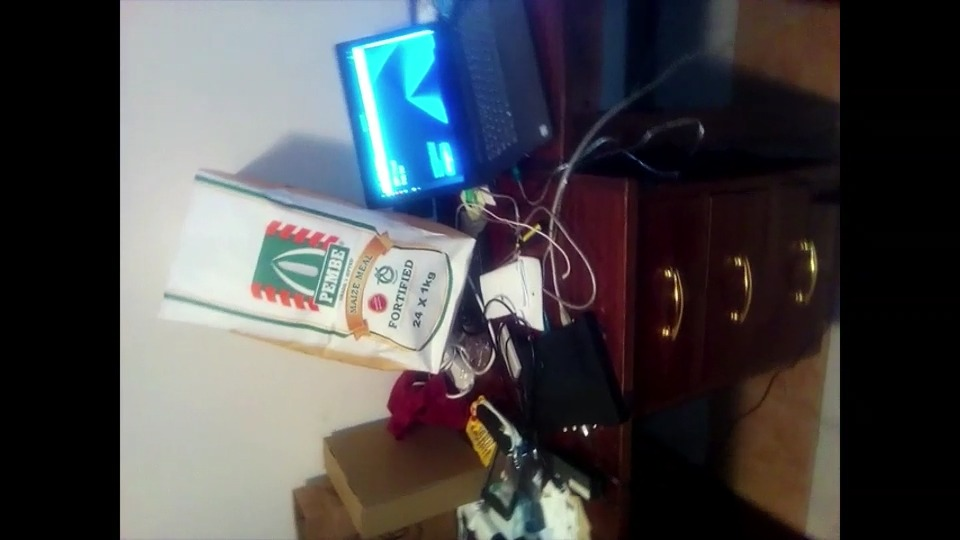maize_flour_green_label: (162, 167, 477, 378)
